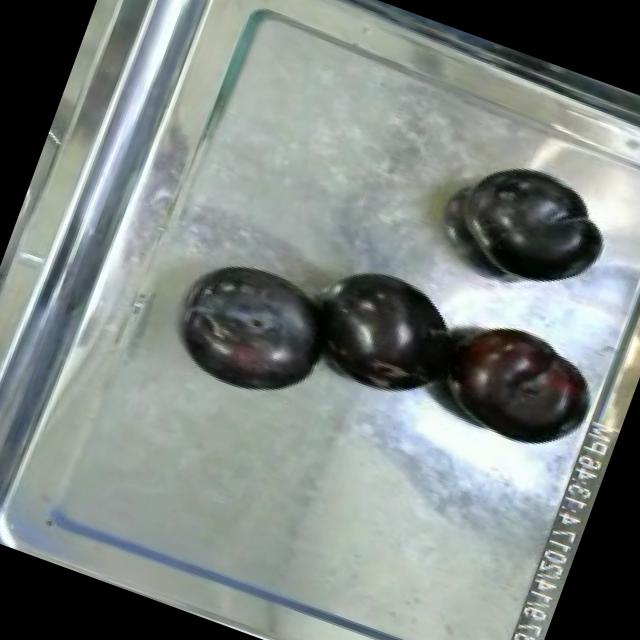Fruit: (164, 244, 353, 422), (420, 297, 612, 468), (294, 247, 482, 415), (443, 148, 621, 308)
